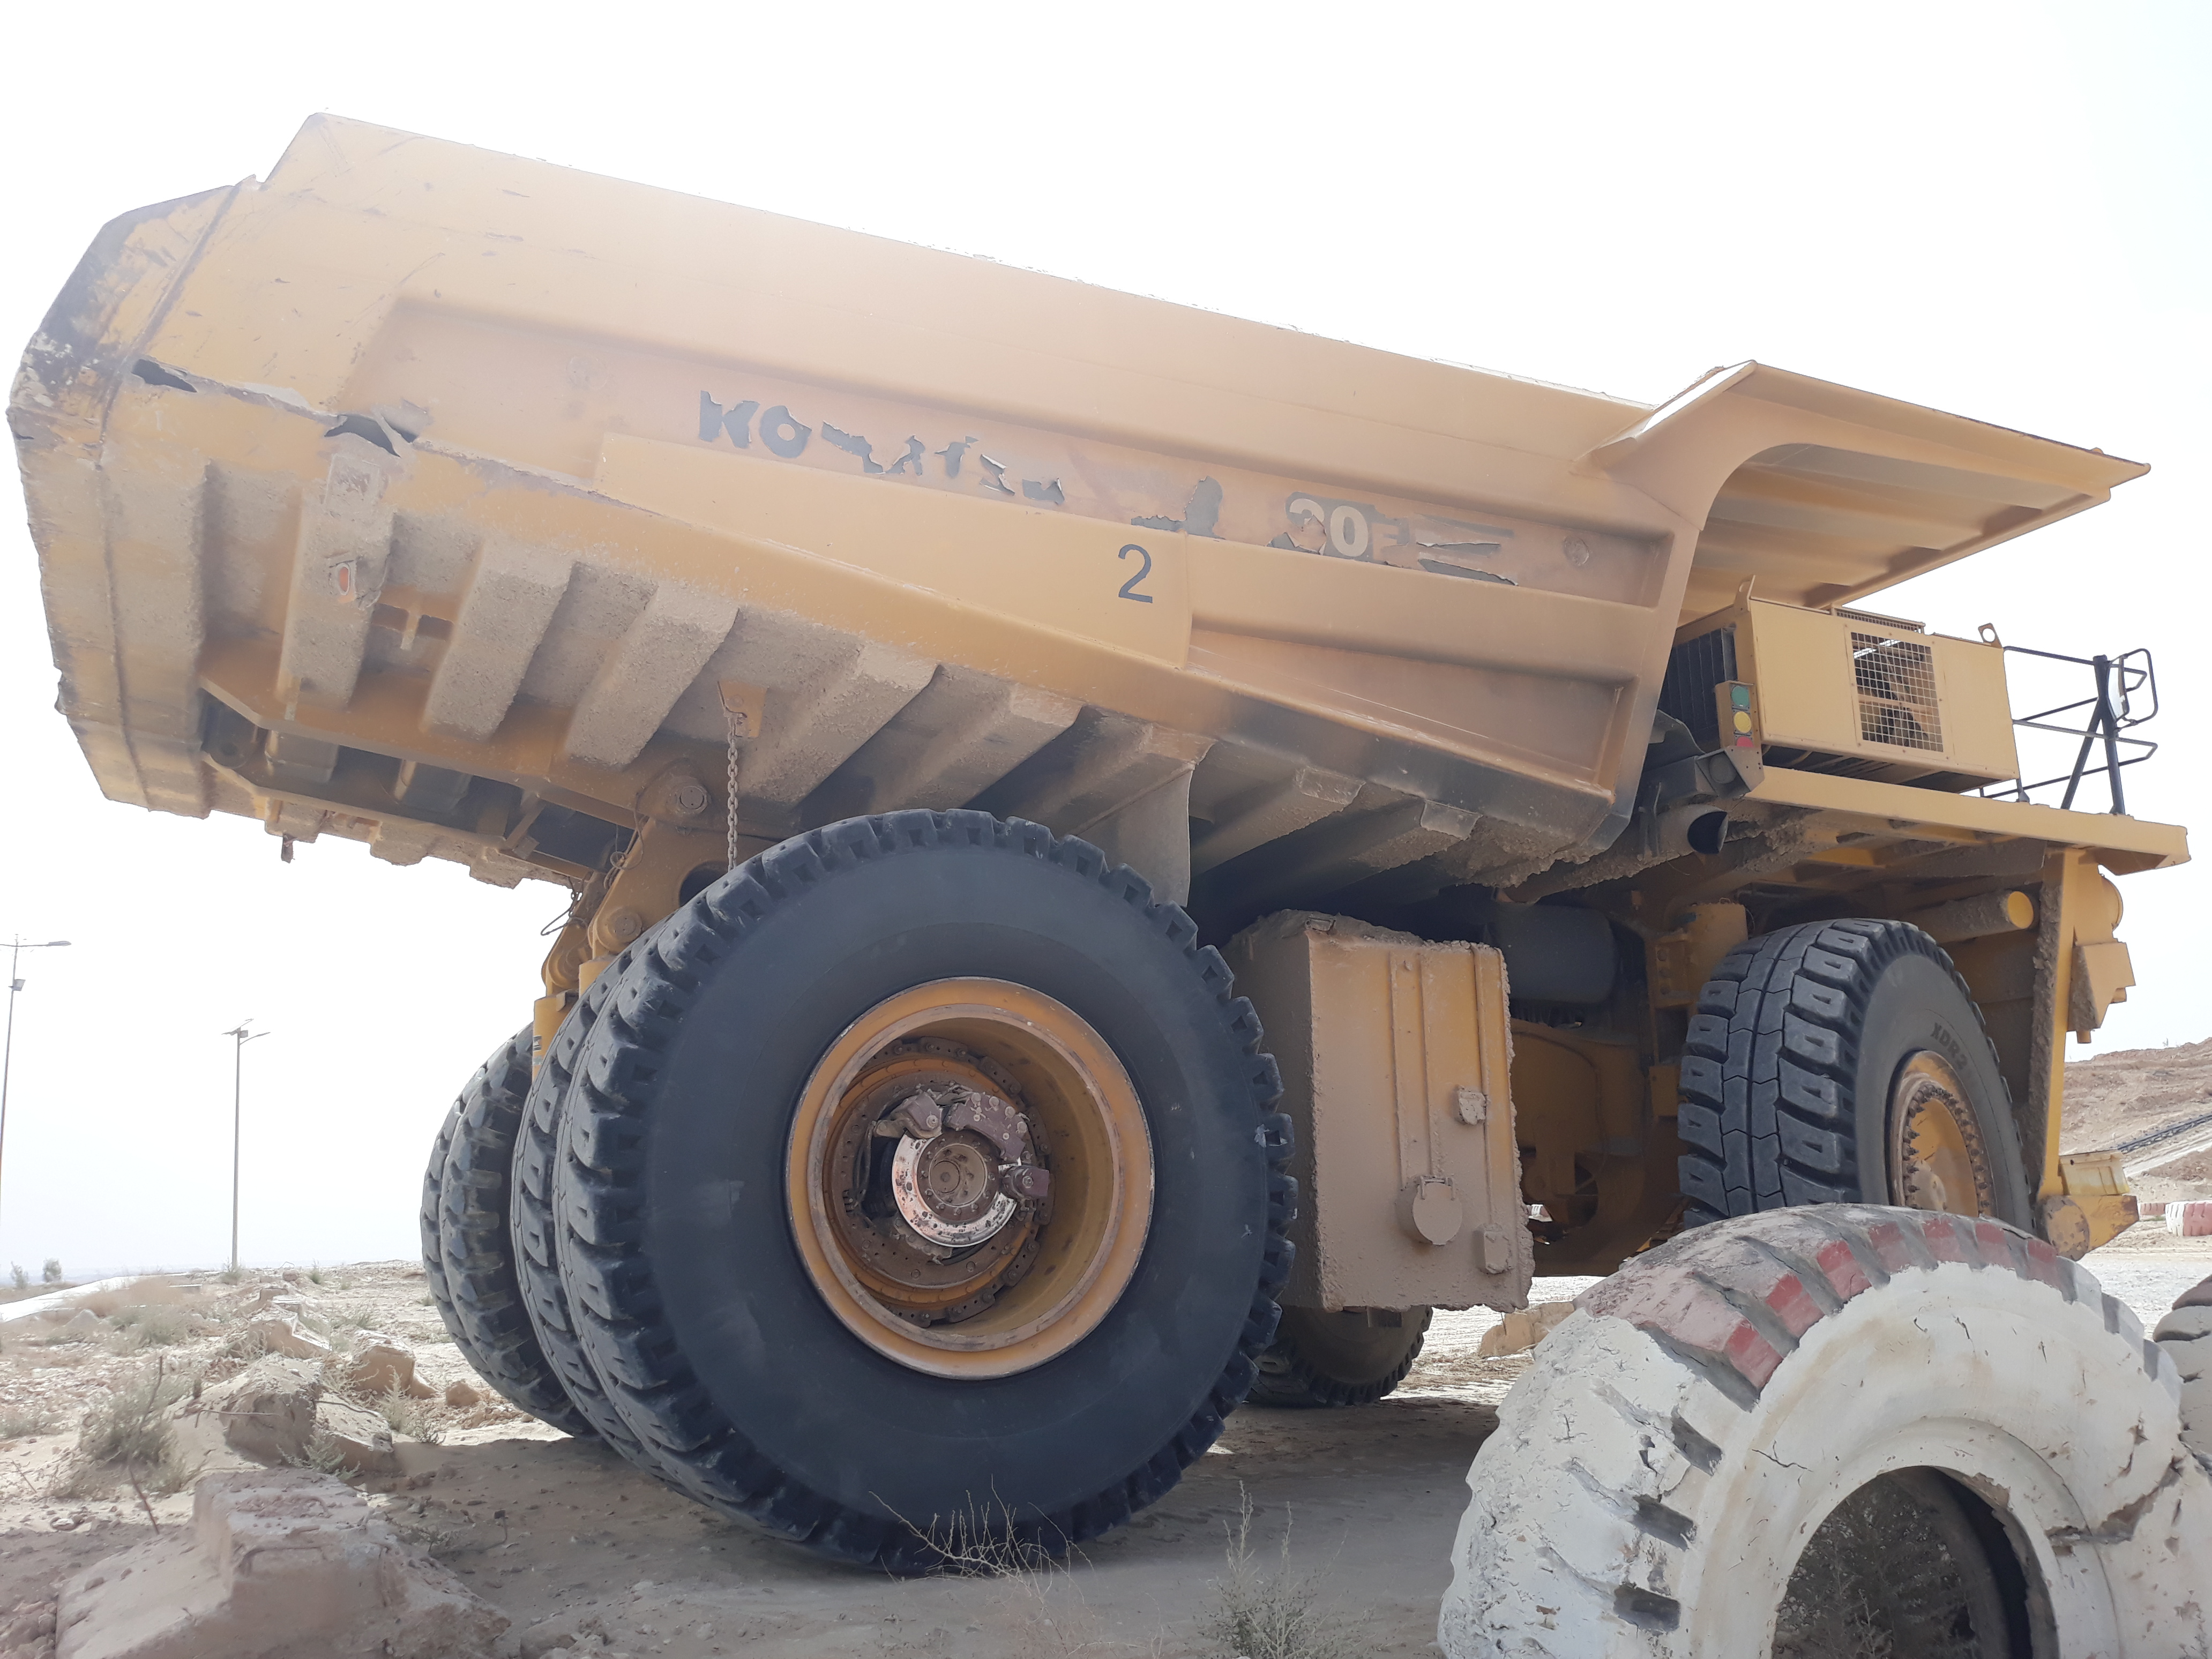camion: (52, 89, 2198, 1596)
